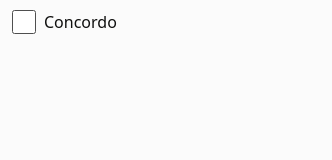
Checkbox › a linha inteira alterna a caixa
Click the text "Concordo": (80, 22) [44, 10, 117, 34]
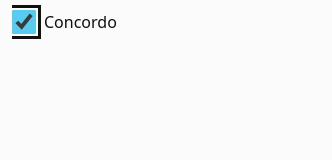
Expected: the checkbox is checked, [12, 10, 36, 34]
